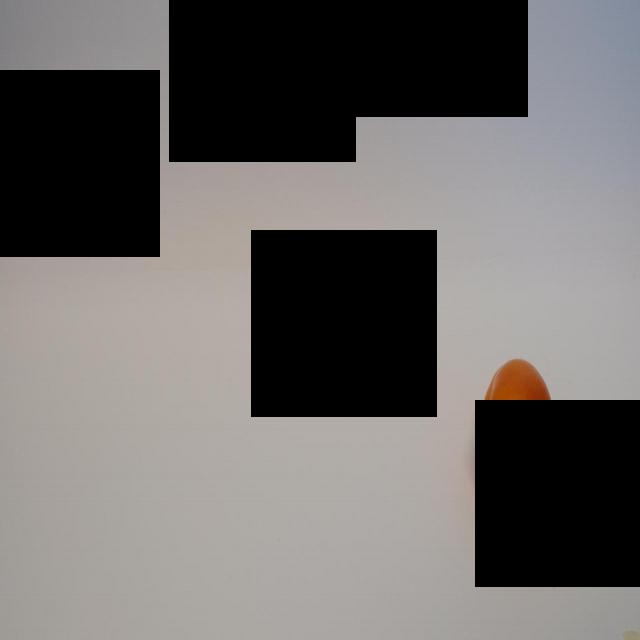tomato: (475, 350, 558, 512)
